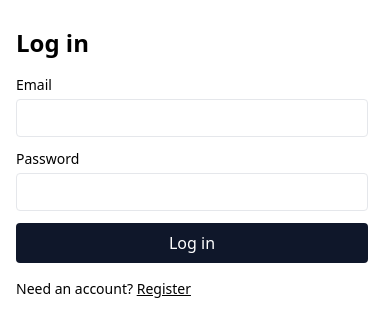
Test case: LoginPage › shows an error message when login fails
Type "user@example.com" into the field labelled "Email" at (192,118), box [16,99,368,137]
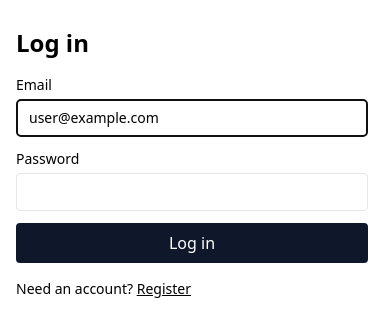
Type "wrong" into the password field labelled "Password" at (192,192), box [16,173,368,211]
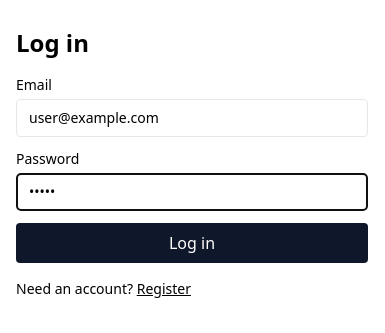
Click the button "Log in" at (192,243), box [16,223,368,263]
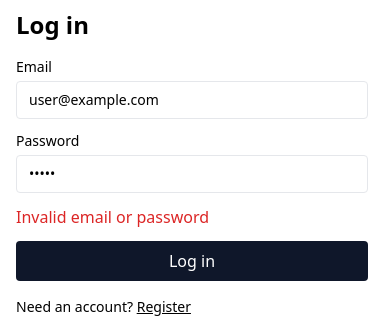
Check: the text "Invalid email or password" is shown, box [16,206,209,228]
